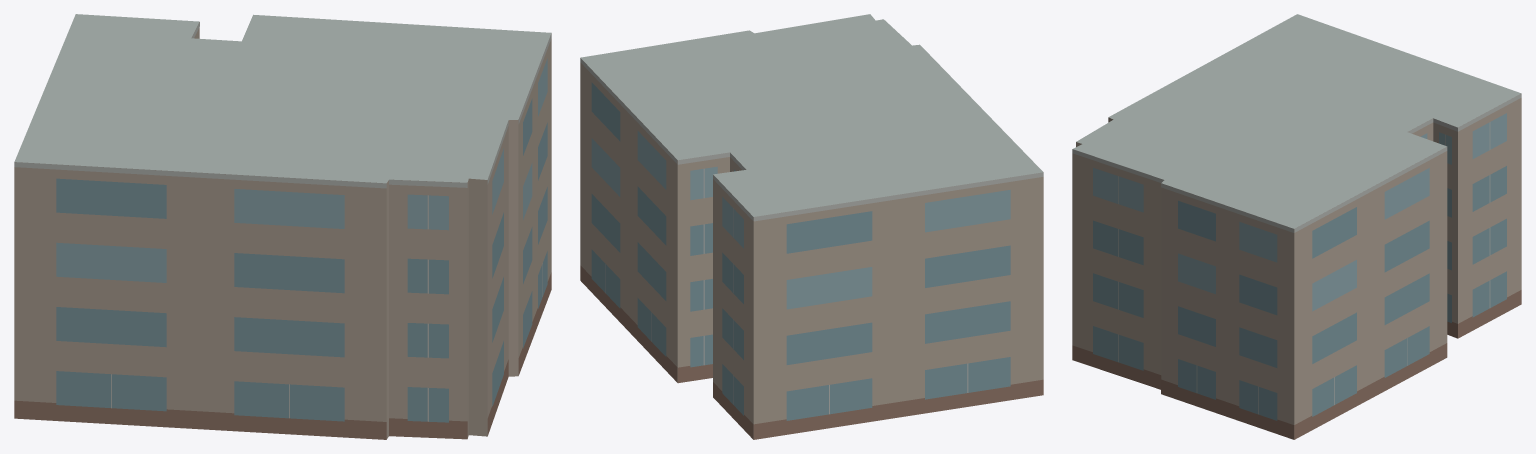
Rendered from survey-upis-32814714.glb.
The picture shows the model from 3 angles, left to right: view 1: azimuth 30°, elevation 25°; view 2: azimuth 150°, elevation 25°; view 3: azimuth 270°, elevation 25°; orthographic projection. The views are drawn at different scales.
Parts seen in each view (by area): view 1: survey-upis-32814714.tmp; view 2: survey-upis-32814714.tmp; view 3: survey-upis-32814714.tmp.
Part boxes in pixels (box(x1,y1,x2,y2)): survey-upis-32814714.tmp: box(14, 14, 551, 439); survey-upis-32814714.tmp: box(580, 14, 1043, 439); survey-upis-32814714.tmp: box(1072, 14, 1521, 439).
Size of the model in its own units: 26.65 by 12.2 by 23.54.
